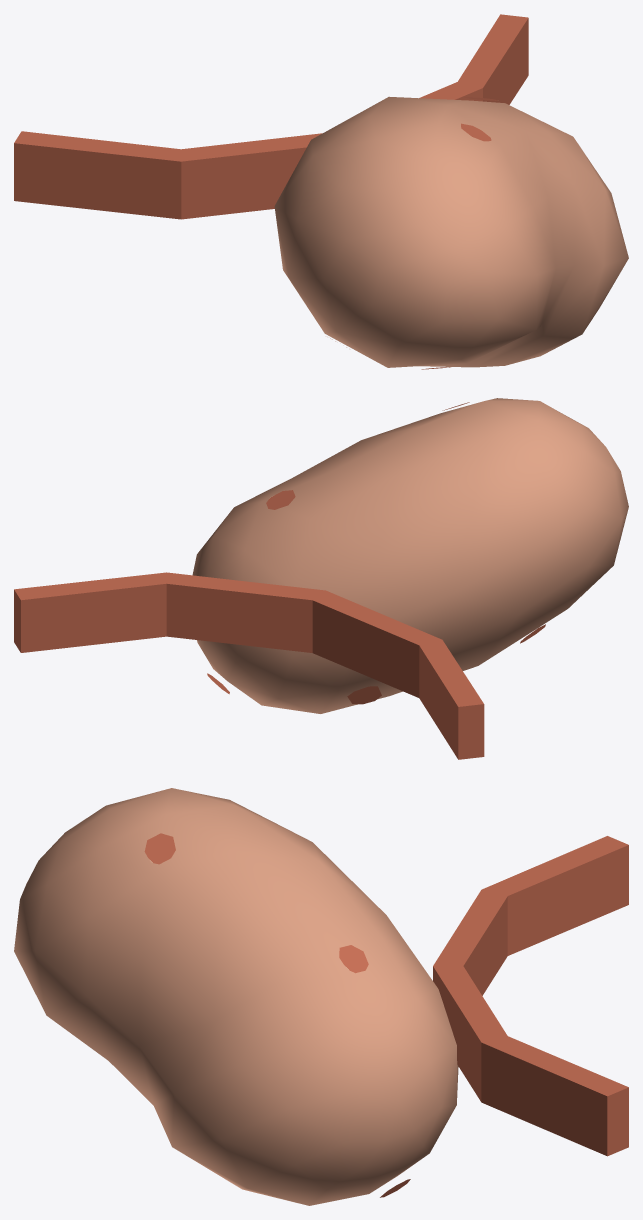
Rendered from hat-potato.glb.
The picture shows the model from 3 angles, top to bottom: view 1: azimuth 30°, elevation 25°; view 2: azimuth 150°, elevation 25°; view 3: azimuth 270°, elevation 25°; orthographic projection. The views are drawn at different scales.
Visible parts, largest first — view 1: hat-potato; view 2: hat-potato; view 3: hat-potato.
Boxes of the visible parts, x1=… form: hat-potato: x1=14, y1=14, x2=628, y2=369; hat-potato: x1=14, y1=398, x2=628, y2=759; hat-potato: x1=14, y1=788, x2=628, y2=1205.
Size of the model in its own units: 0.931 by 0.5262 by 0.9285.
Materials: 1 (1 with a texture image).
